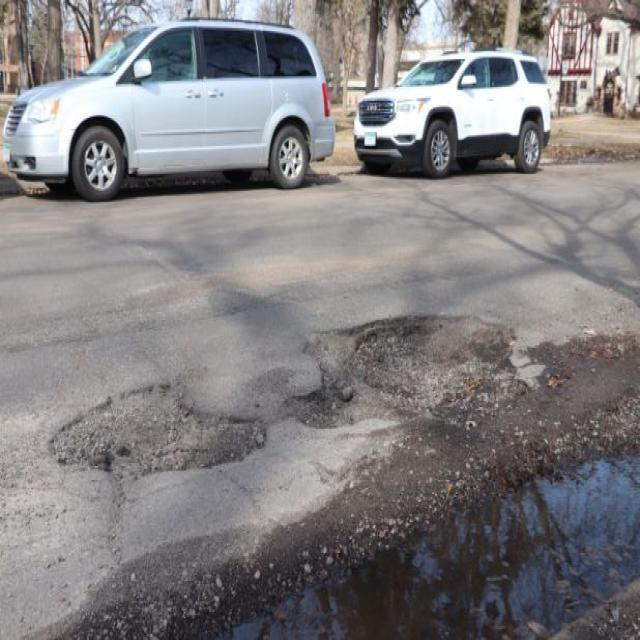pothole: (278, 307, 512, 432), (42, 371, 272, 477)
